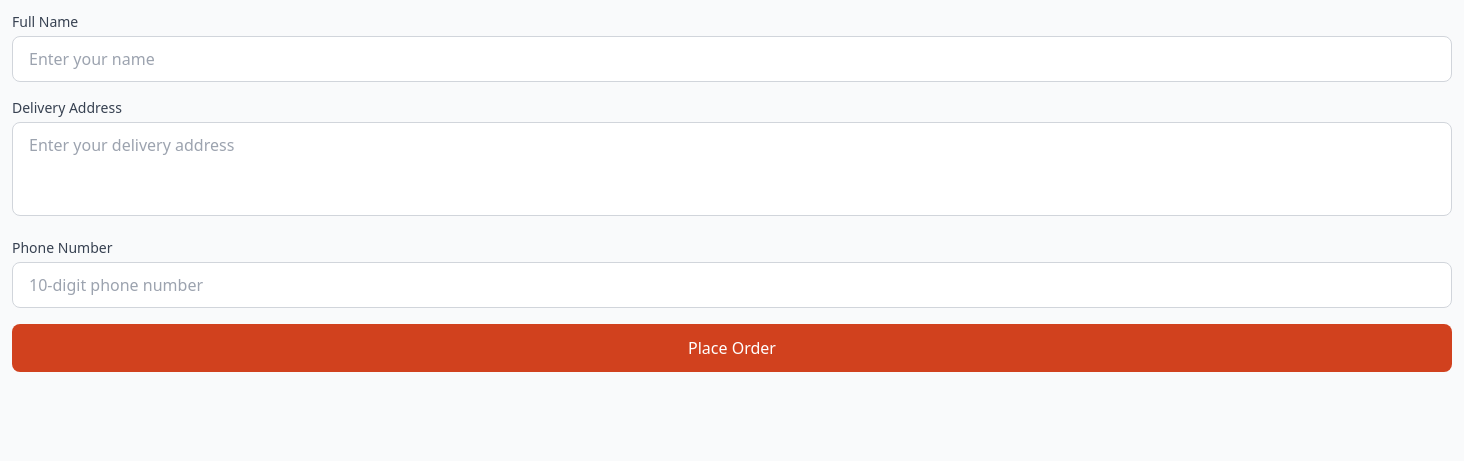
Test: CheckoutForm › should show errors for empty fields
The width and height of the screenshot is (1464, 461).
Click the button "Place Order". click: (732, 348)
box: [12, 324, 1452, 372]
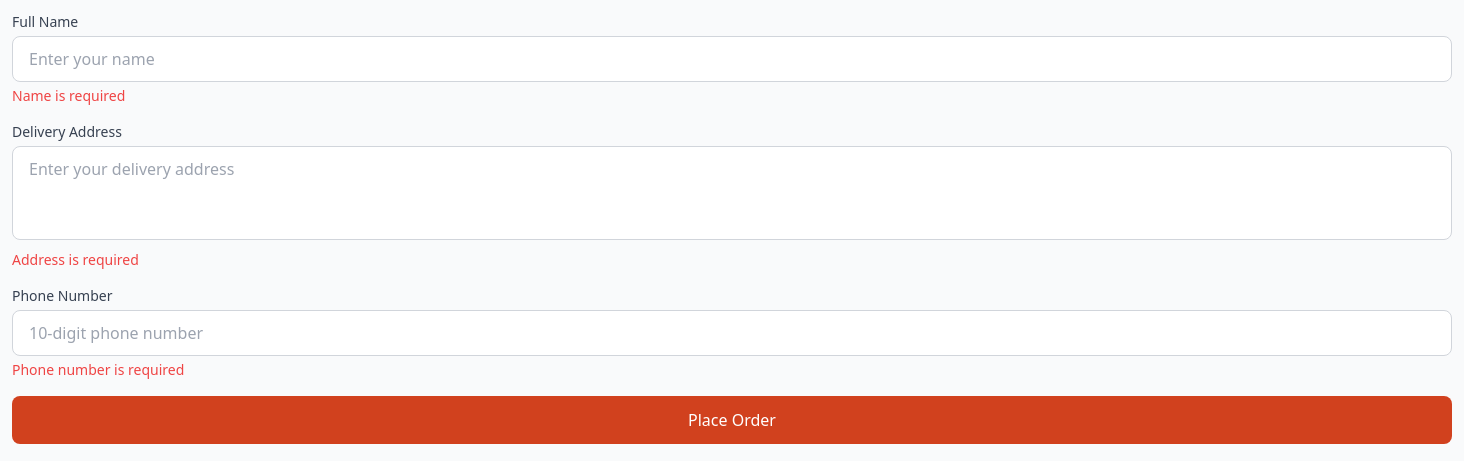
expect the text "Name is required" is shown: met, box [12, 86, 125, 105]
expect the text "Address is required" is shown: met, box [12, 250, 139, 269]
expect the text "Phone number is required" is shown: met, box [12, 360, 184, 379]
